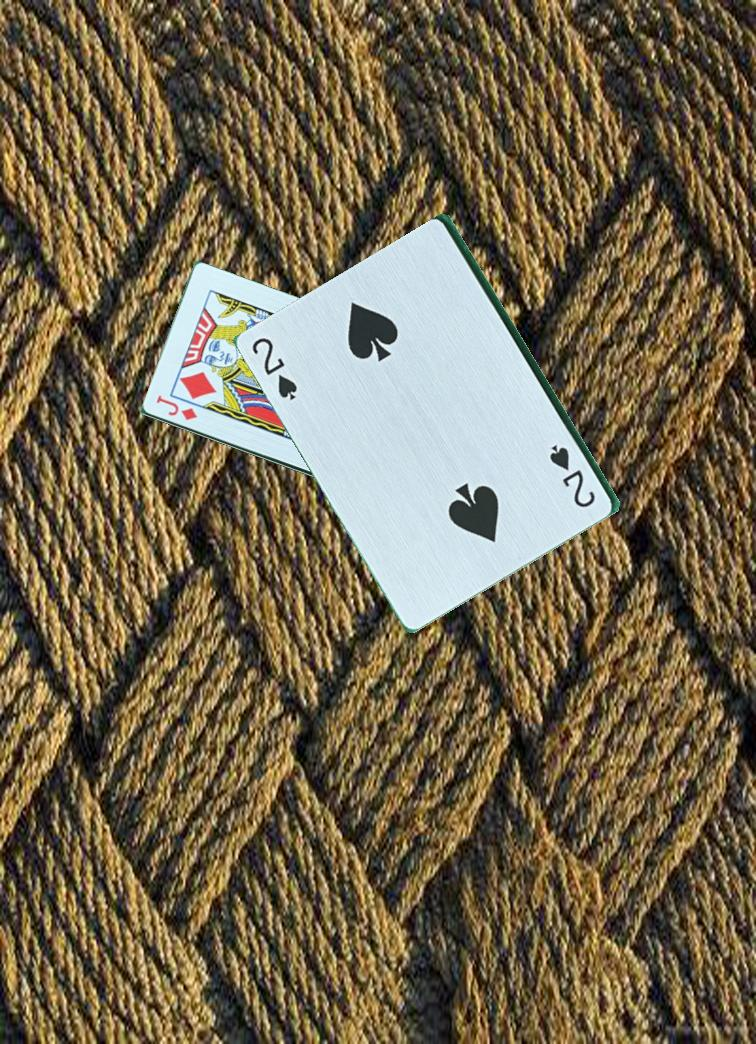2s: (248, 334, 311, 404), (548, 441, 599, 520)
jd: (152, 393, 199, 424)
